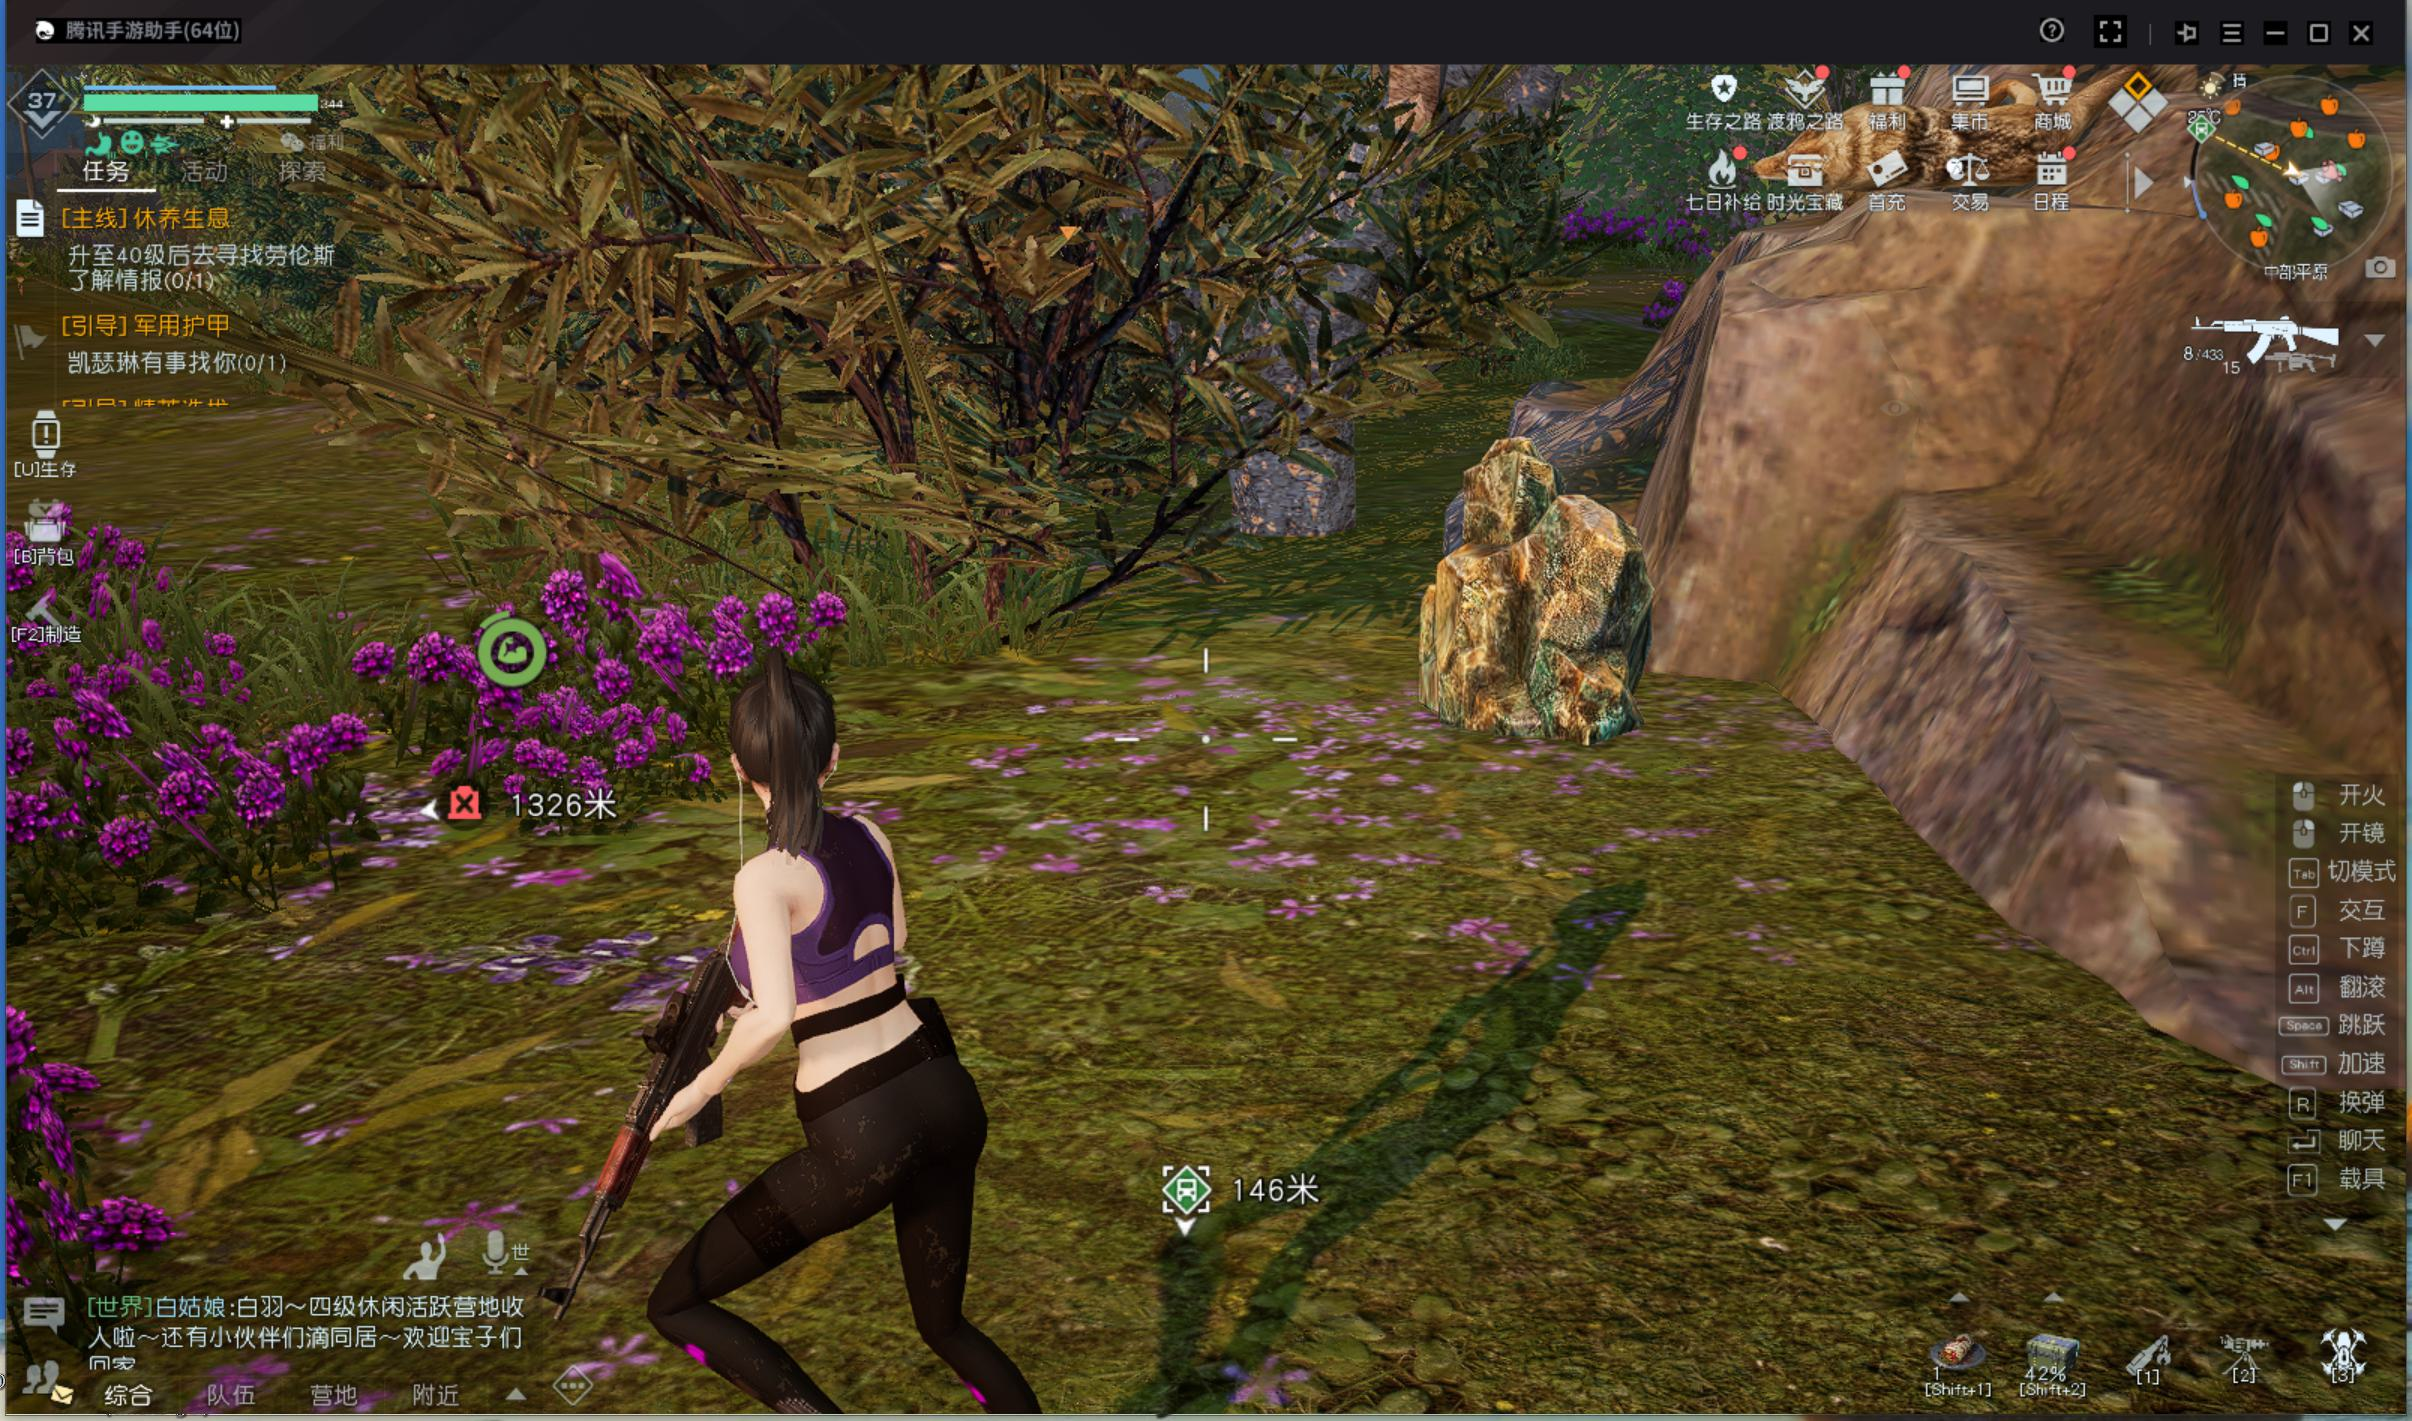stone: (1401, 435, 1691, 765)
